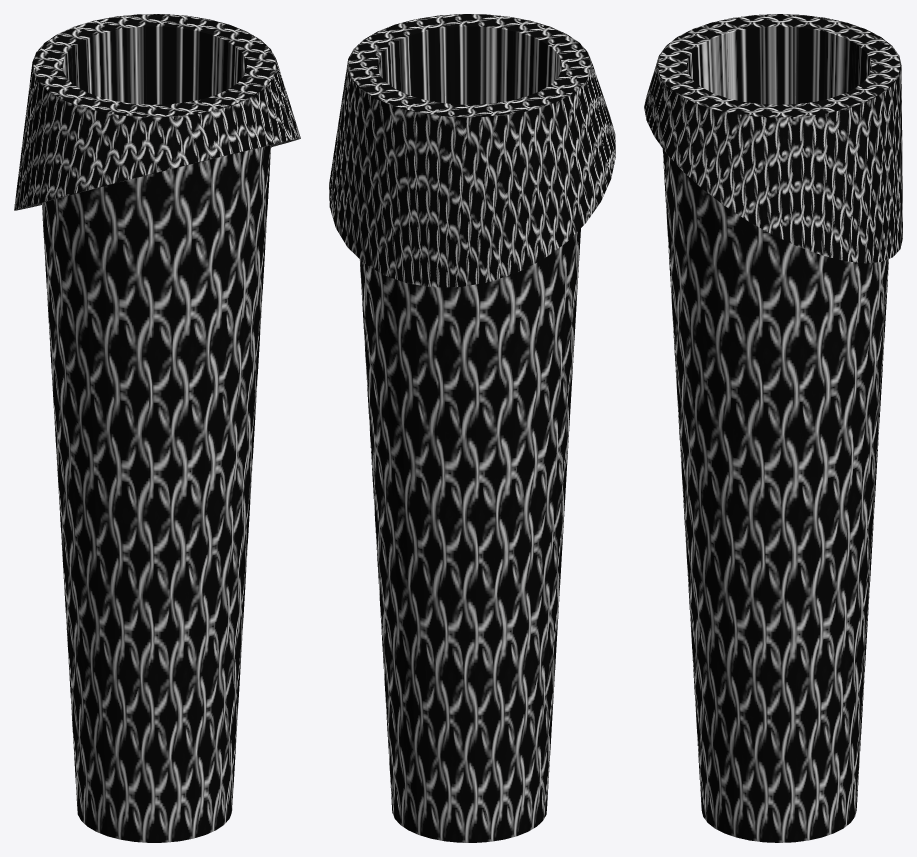
The model's file is quiver.fbx.
3 views of the same model, side by side, from view 1: azimuth 30°, elevation 25°; view 2: azimuth 150°, elevation 25°; view 3: azimuth 270°, elevation 25° (orthographic).
Parts seen in each view (by area): view 1: Цилиндр; view 2: Цилиндр; view 3: Цилиндр.
Part boxes in pixels (left/top/right/bottom): Цилиндр: left=14, top=14, right=300, bottom=842; Цилиндр: left=329, top=14, right=615, bottom=842; Цилиндр: left=644, top=14, right=902, bottom=842.
Bounding box in the file's own units: 44.29 × 123 × 38.66.
1 material, 1 textured.
